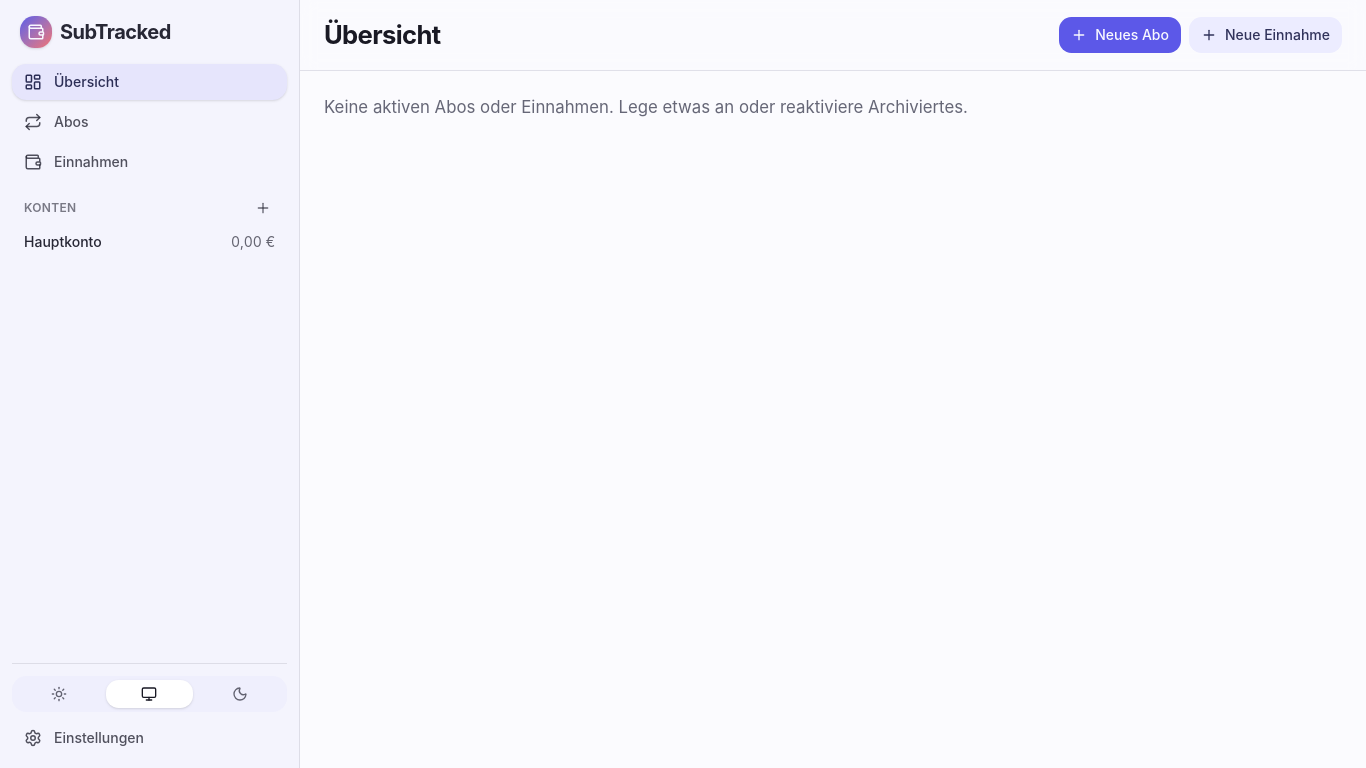
Scenario: App › zeigt keinen Empty-State, wenn nur archivierte Abos vorhanden sind
The width and height of the screenshot is (1366, 768).
Click the button "Abos".
click(71, 122)  # box [12,104,287,140]
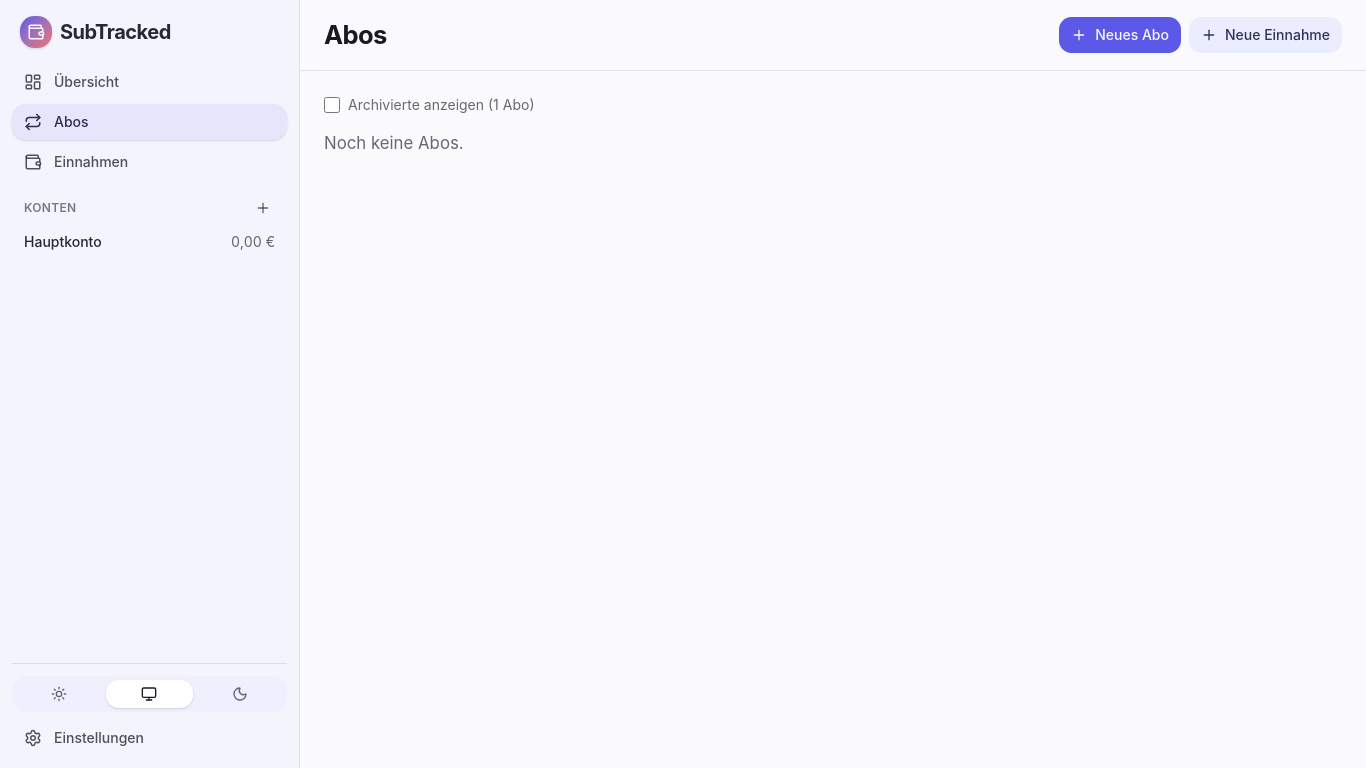
Expected: the text "Archivierte anzeigen (1 Abo)" is shown, [324,96,534,113]
